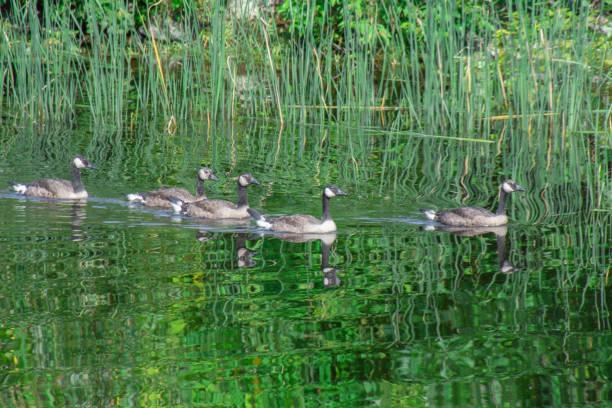Canadian-Goose: (420, 178, 527, 233), (253, 181, 342, 236), (123, 162, 214, 210), (10, 153, 96, 203), (183, 170, 256, 222)
